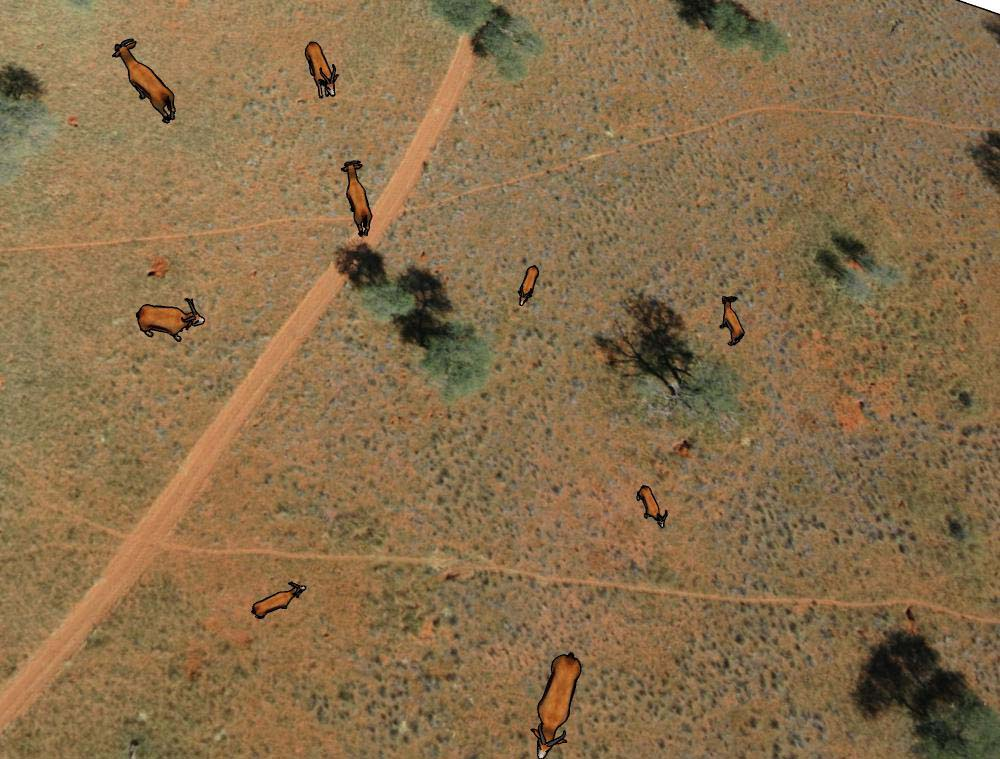springbok: (111, 34, 185, 128), (527, 643, 583, 759), (134, 290, 207, 350), (334, 151, 377, 235), (296, 38, 347, 103), (251, 574, 311, 626), (634, 477, 674, 534), (712, 294, 748, 347), (514, 250, 539, 309)
